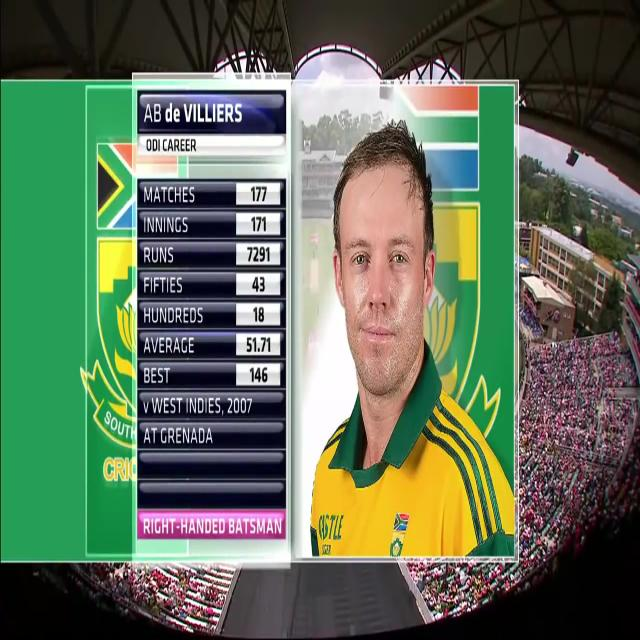Ball: (308, 127, 514, 556)
